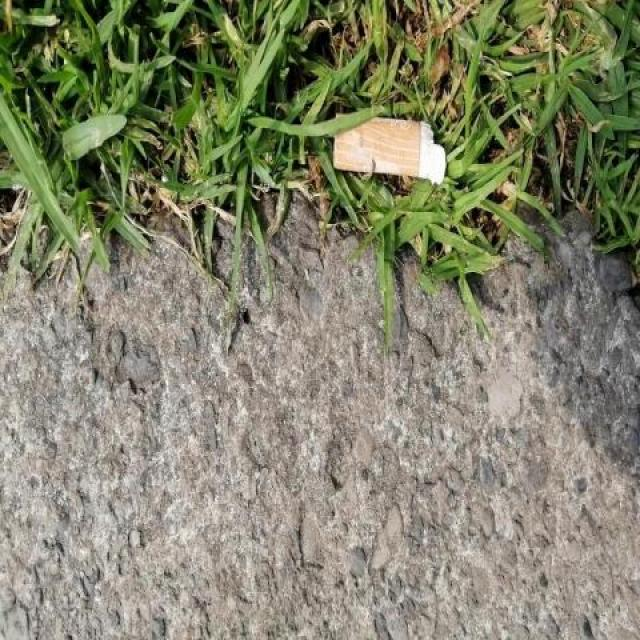non-organic waste: (328, 100, 452, 189)
